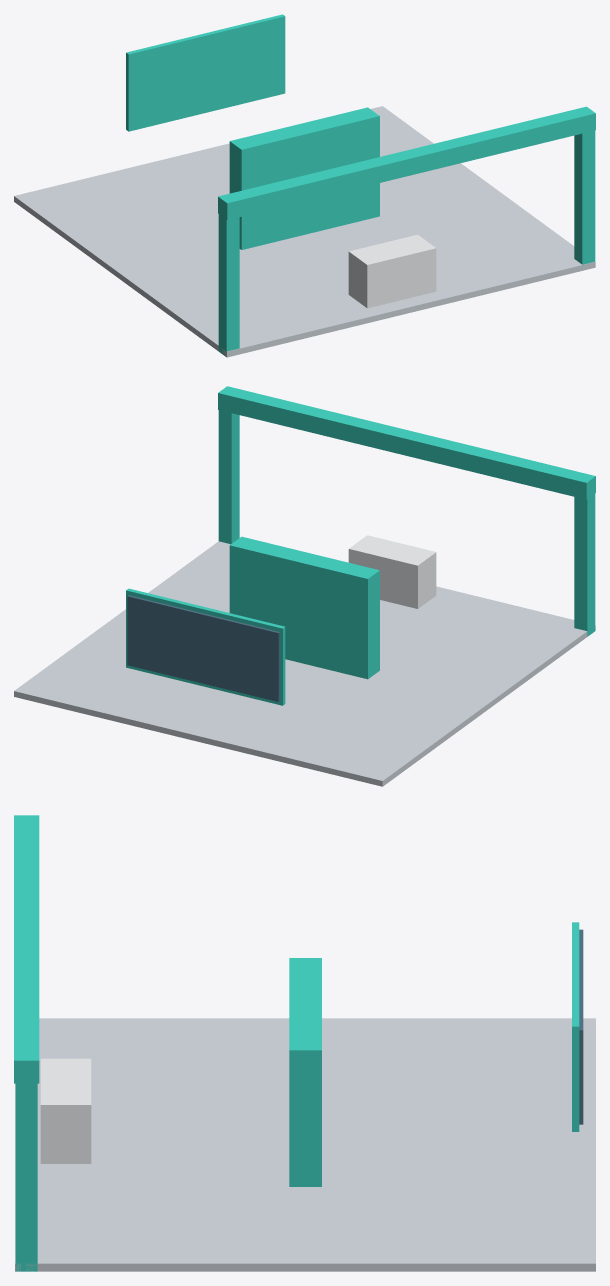
3 views of the same model, one above another, from view 1: azimuth 30°, elevation 25°; view 2: azimuth 150°, elevation 25°; view 3: azimuth 270°, elevation 25° (orthographic). The views are drawn at different scales.
Parts seen in each view (by area): view 1: Exhibition Booth Concept; view 2: Exhibition Booth Concept; view 3: Exhibition Booth Concept.
Boxes of the visible parts, x1=… form: Exhibition Booth Concept: x1=14, y1=14, x2=595, y2=357; Exhibition Booth Concept: x1=14, y1=386, x2=595, y2=786; Exhibition Booth Concept: x1=14, y1=815, x2=595, y2=1271.
Size of the model in its own units: 8 by 3.2 by 8.01.
